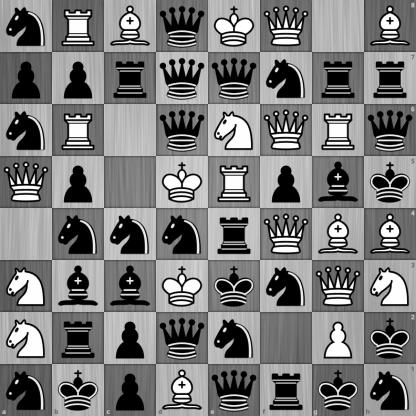B: (156, 364, 209, 416), (364, 0, 416, 52), (364, 209, 416, 260), (105, 1, 156, 52), (313, 209, 364, 260)
K: (157, 157, 208, 208), (157, 261, 208, 312), (209, 1, 260, 52)
N: (364, 260, 416, 312), (1, 261, 52, 312), (1, 313, 52, 364), (209, 105, 260, 156)
P: (313, 313, 364, 364)
Q: (1, 157, 52, 208), (261, 1, 312, 52), (261, 105, 312, 156), (261, 209, 312, 260), (313, 261, 364, 312)
R: (53, 1, 104, 52), (53, 105, 104, 156), (209, 157, 260, 208), (313, 105, 364, 156)
b: (53, 261, 104, 312), (105, 261, 156, 312), (313, 157, 364, 208)
board: (0, 0, 415, 415)
k: (364, 156, 416, 209), (52, 364, 104, 416), (312, 364, 364, 416), (364, 312, 416, 364), (209, 261, 260, 312)
n: (0, 364, 52, 416), (364, 364, 416, 416), (1, 1, 52, 52), (1, 105, 52, 156), (53, 209, 104, 260), (105, 209, 156, 260), (157, 209, 208, 260), (209, 313, 260, 364), (261, 53, 312, 104), (261, 261, 312, 312)
p: (104, 364, 156, 416), (1, 53, 52, 104), (53, 53, 104, 104), (53, 157, 104, 208), (105, 313, 156, 364), (261, 157, 312, 208)
q: (364, 104, 416, 156), (209, 364, 260, 416), (157, 1, 208, 52), (157, 53, 208, 104), (157, 105, 208, 156), (157, 313, 208, 364), (209, 53, 260, 104)
r: (260, 364, 312, 416), (364, 52, 416, 104), (53, 313, 104, 364), (105, 53, 156, 104), (209, 209, 260, 260), (313, 53, 364, 104)
